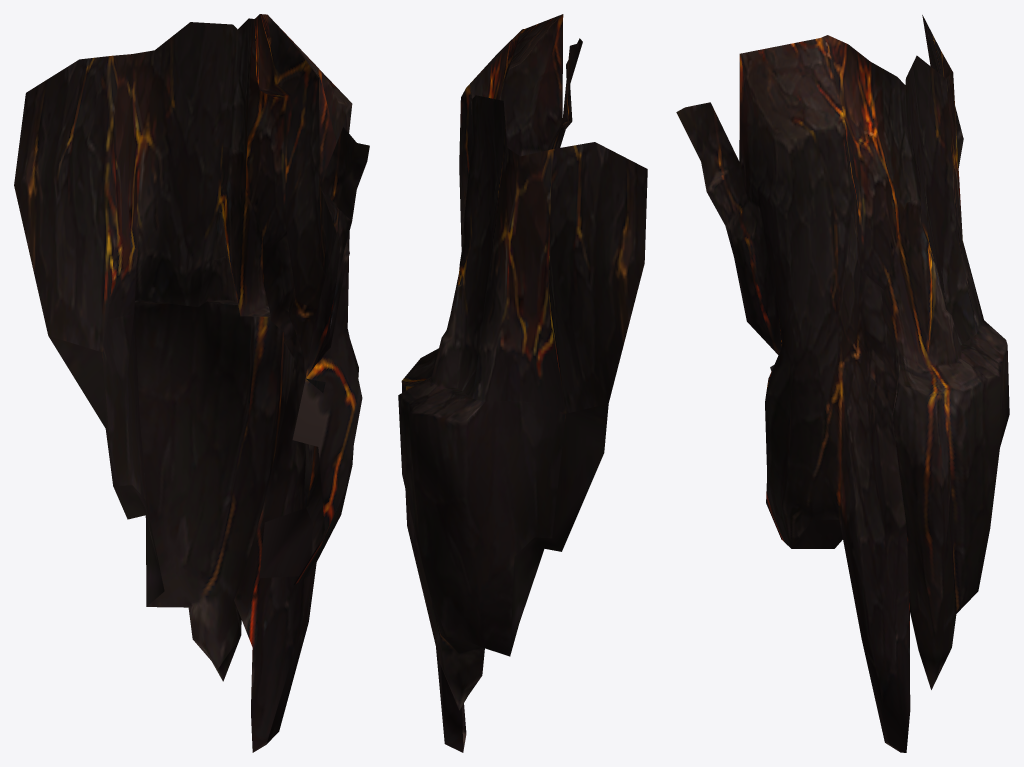
File: S2_Build_XSC106_L18.FBX
3 renders of one model, left to right at view 1: azimuth 30°, elevation 25°; view 2: azimuth 150°, elevation 25°; view 3: azimuth 270°, elevation 25°, orthographic. The views are drawn at different scales.
Visible parts, largest first — view 1: S2_Build_XSC106_L18; view 2: S2_Build_XSC106_L18; view 3: S2_Build_XSC106_L18.
Boxes of the visible parts, bbox=[...] form: S2_Build_XSC106_L18: bbox=[14, 14, 369, 752]; S2_Build_XSC106_L18: bbox=[398, 14, 647, 752]; S2_Build_XSC106_L18: bbox=[676, 15, 1009, 752].
Size of the model in its own units: 4864 by 13360 by 5713.
